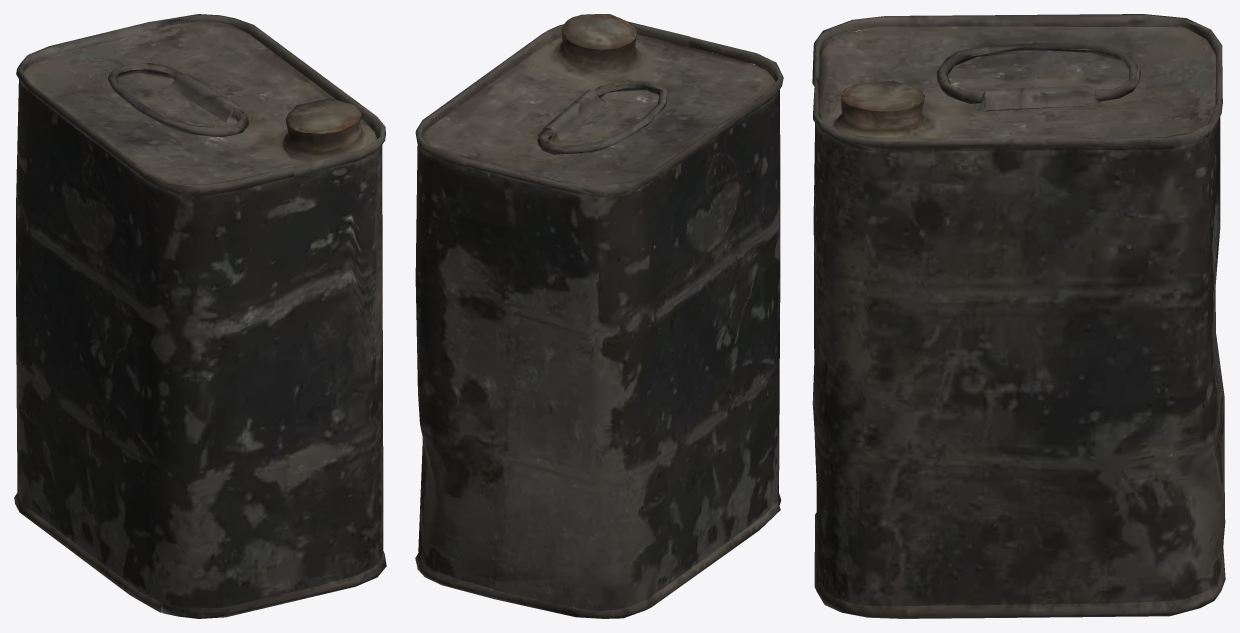
Rendered from oil_tin.glb.
3 views of the same model, side by side, from view 1: azimuth 30°, elevation 25°; view 2: azimuth 150°, elevation 25°; view 3: azimuth 270°, elevation 25° (orthographic). The views are drawn at different scales.
Parts seen in each view (by area): view 1: oil_tin, oil_tin_handle; view 2: oil_tin, oil_tin_handle; view 3: oil_tin, oil_tin_handle.
Boxes of the visible parts, left/top/right/bottom form: oil_tin: left=14, top=14, right=386, bottom=618; oil_tin_handle: left=108, top=63, right=248, bottom=137; oil_tin: left=415, top=14, right=783, bottom=618; oil_tin_handle: left=537, top=80, right=666, bottom=154; oil_tin: left=812, top=14, right=1225, bottom=618; oil_tin_handle: left=937, top=42, right=1140, bottom=103.
Bounding box in the file's own units: 0.1145 × 0.2053 × 0.1537.
1 material, 1 textured.
